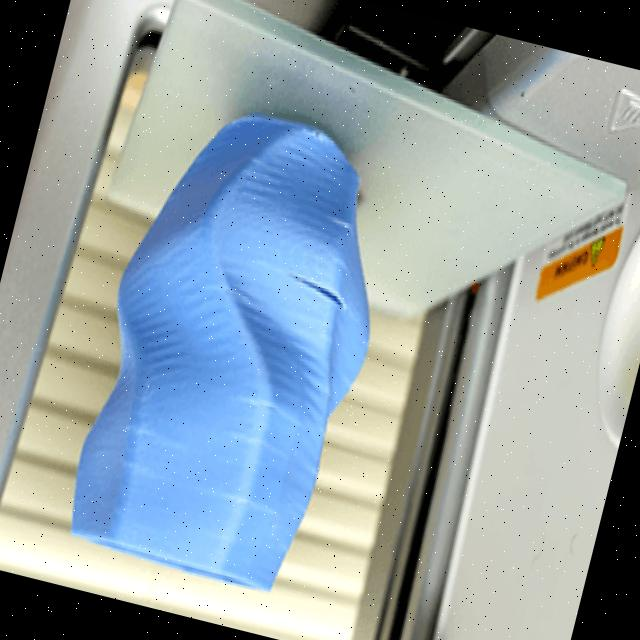cracks: (258, 240, 359, 322)
